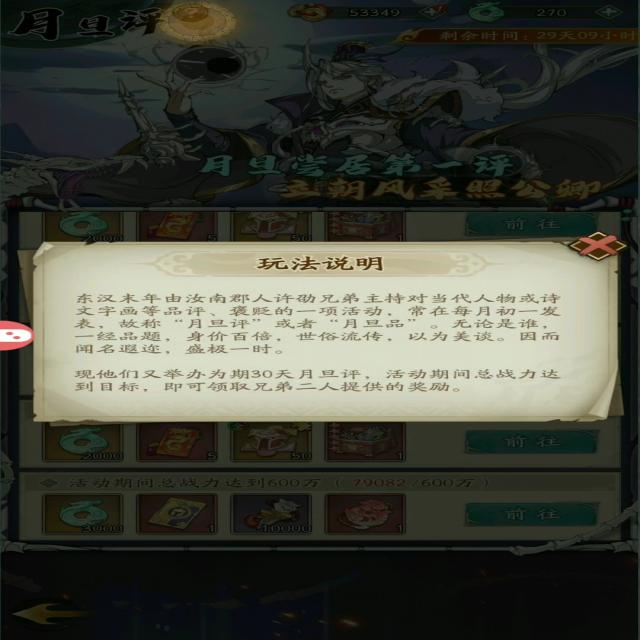operation-close: (574, 232, 628, 260)
